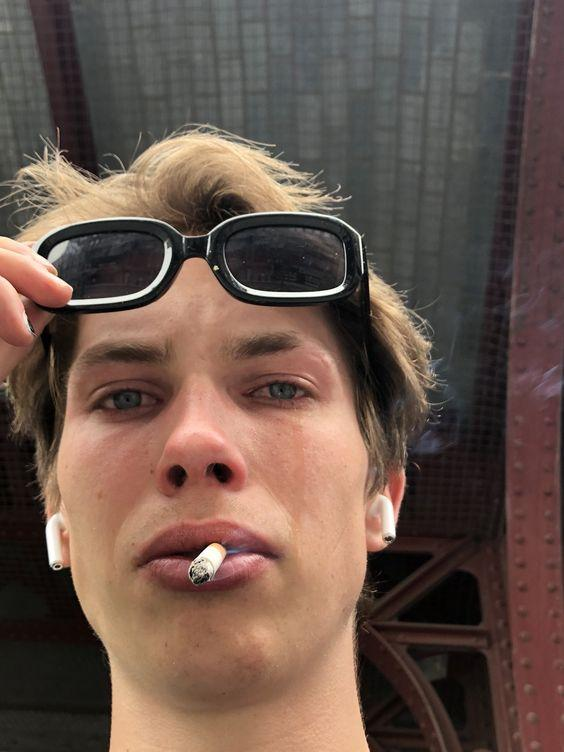cigarette: (188, 543, 226, 585)
